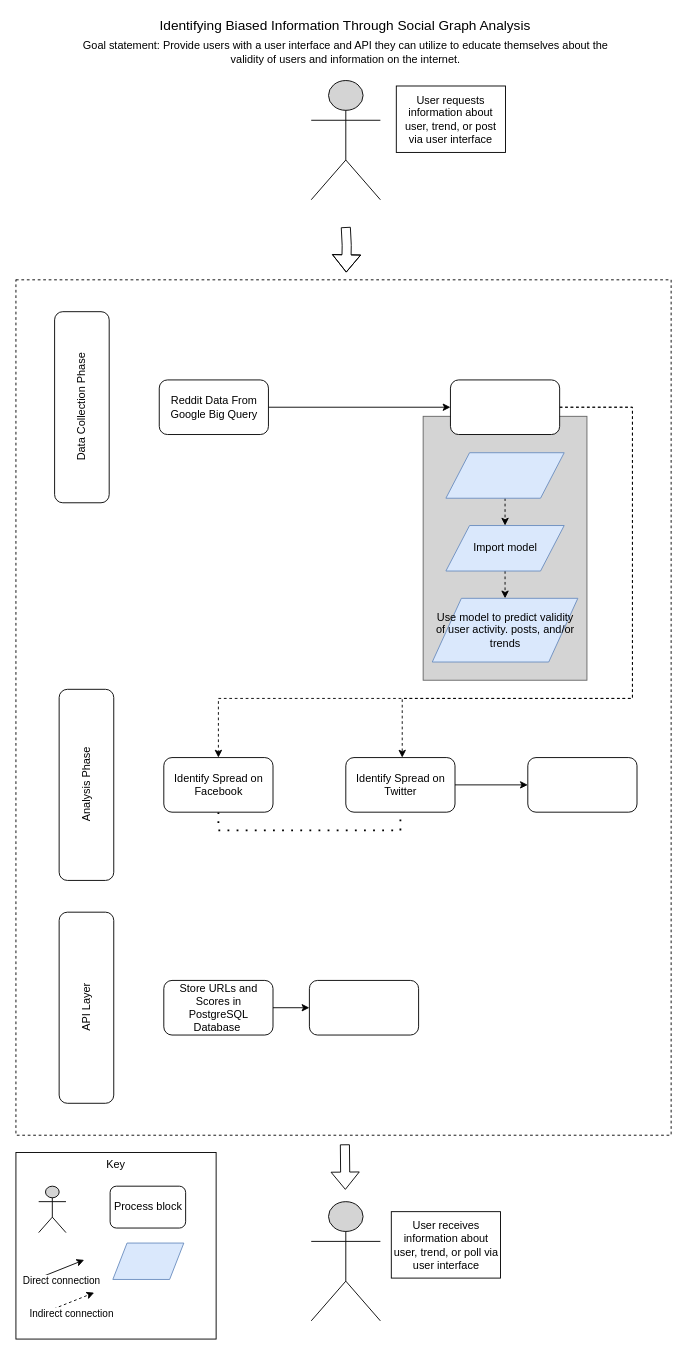
Some shapes in this 687 by 1355 pixel diagram are drawn without their labels. Here are the shapes that lost their labels. From the top down, the centre of each, then its label:
the point at 505,407: Homebrew ML
the point at 504,475: Create model
the point at 582,784: Store Results in PostgreSQL
the point at 363,1007: Django Python Server
the point at 52,1209: User
the point at 148,1260: Algorithm block
